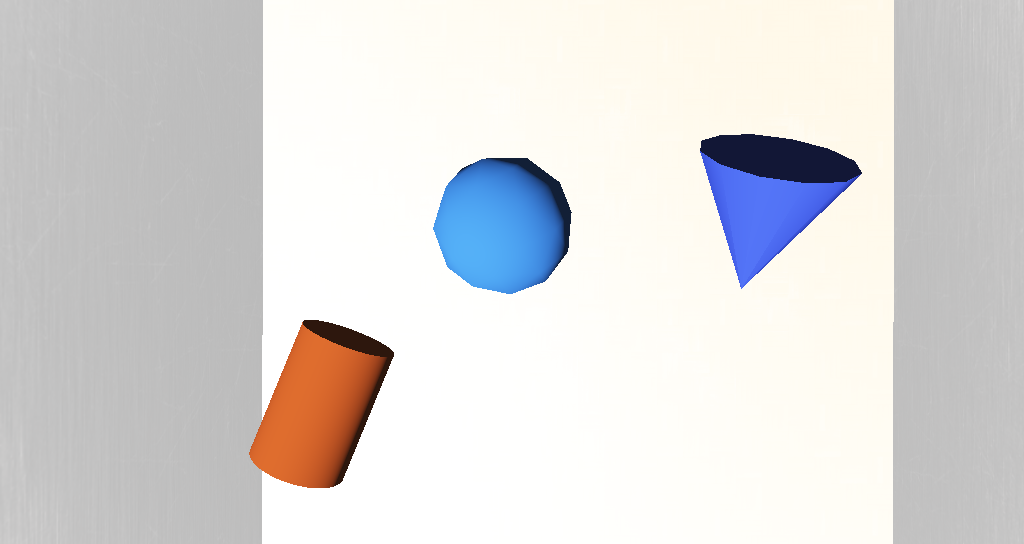cone: (350, 282, 418, 339)
cylinder: (549, 220, 623, 286)
sphere: (441, 229, 502, 277)
